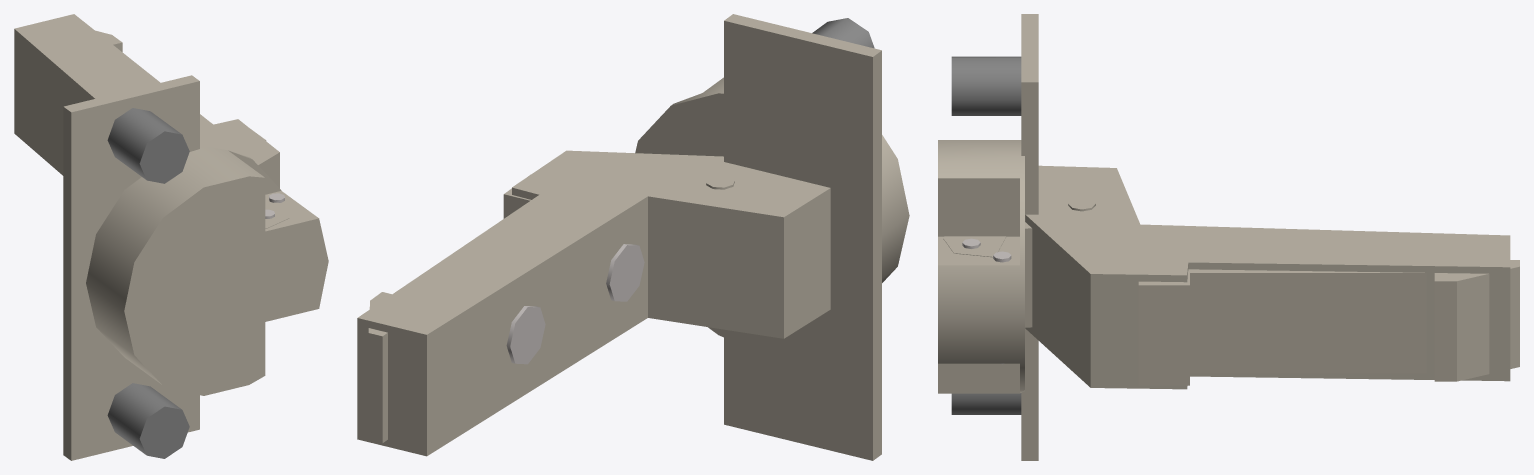
3 renders of one model, left to right at view 1: azimuth 30°, elevation 25°; view 2: azimuth 150°, elevation 25°; view 3: azimuth 270°, elevation 25°, orthographic. The views are drawn at different scales.
Visible parts, largest first — view 1: bau0045622955-1, bau0050876170-1, bau0016549175-2; view 2: bau0050876170-1, bau0045622955-1, bau0019426112-1; view 3: bau0050876170-1, bau0019426112-1, bau0045622955-1, bau0016549175-2, bau0016549209-1.
Part boxes in pixels (bbox=[...]): bau0045622955-1: bbox=[63, 75, 328, 460]; bau0050876170-1: bbox=[14, 14, 279, 188]; bau0016549175-2: bbox=[265, 202, 289, 228]; bau0050876170-1: bbox=[357, 150, 830, 456]; bau0045622955-1: bbox=[635, 14, 909, 460]; bau0019426112-1: bbox=[368, 174, 531, 443]; bau0050876170-1: bbox=[1025, 165, 1510, 389]; bau0019426112-1: bbox=[1138, 260, 1519, 385]; bau0045622955-1: bbox=[938, 14, 1038, 460]; bau0016549175-2: bbox=[943, 236, 1006, 257]; bau0016549209-1: bbox=[1025, 222, 1032, 327].
Bounding box in the file's own units: 42.6 × 57 × 79.35.
